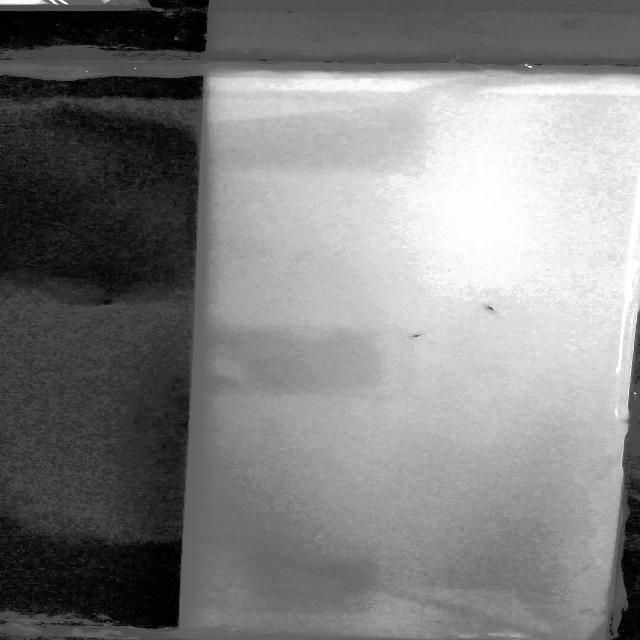shrimp: (476, 301, 506, 321), (403, 329, 430, 343)
